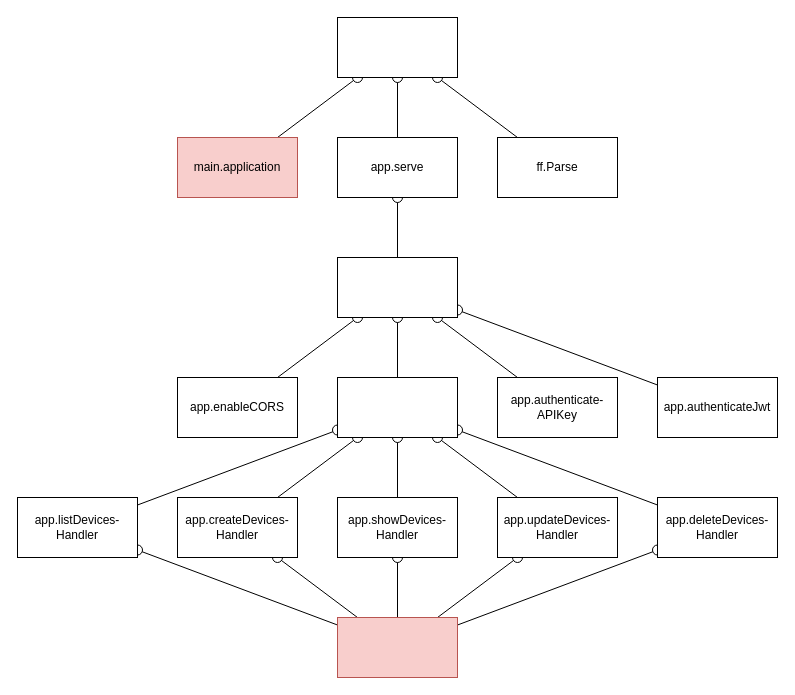
The diagram is 795 pixels wide and 695 high, and some of its shapes have lost their labels. The box of each missing label's shape, as (x1, y1, x2, y2) in pixels:
app.routes: (336, 256, 458, 318)
data.Device: (336, 616, 458, 678)
main: (336, 16, 458, 78)
router.HandlerFunc: (336, 376, 458, 438)
